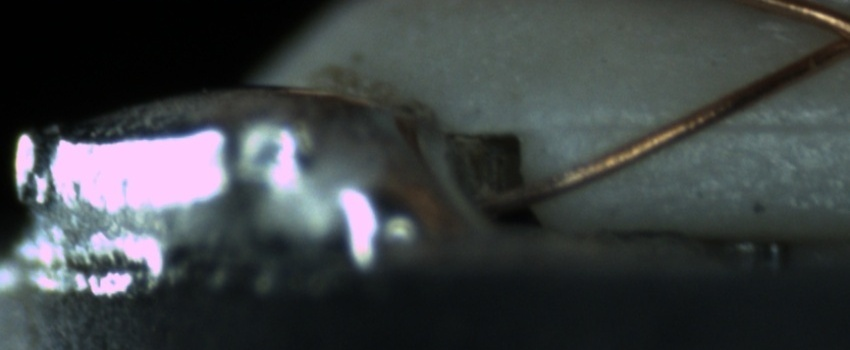DL: (552, 95, 850, 154)
